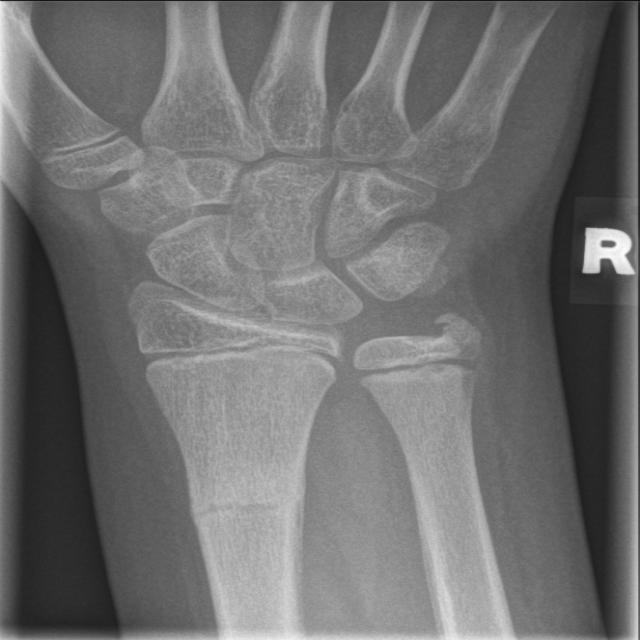radius fracture: (117, 408, 360, 596)
ulna fracture: (400, 304, 500, 481)
